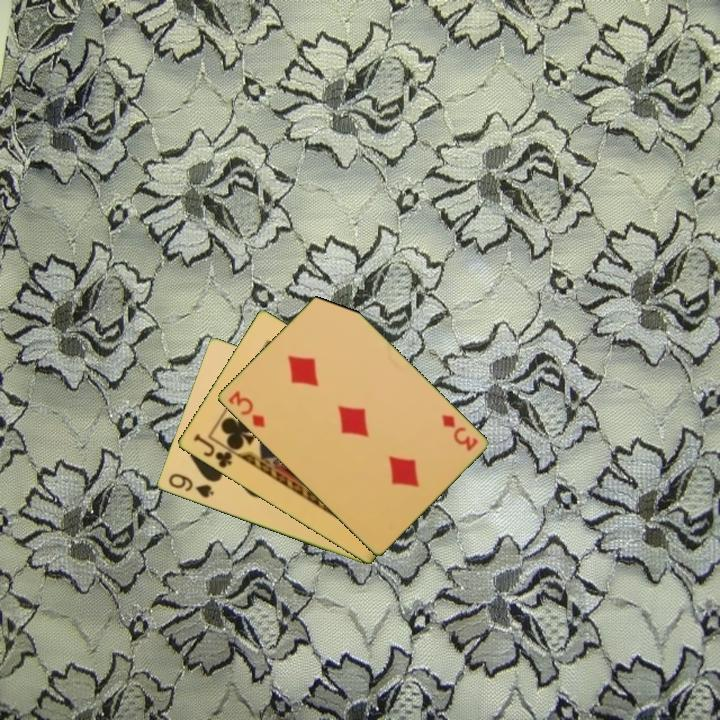3d: (224, 387, 268, 430), (438, 411, 481, 454)
9s: (165, 470, 217, 501)
Jc: (189, 430, 235, 471)
